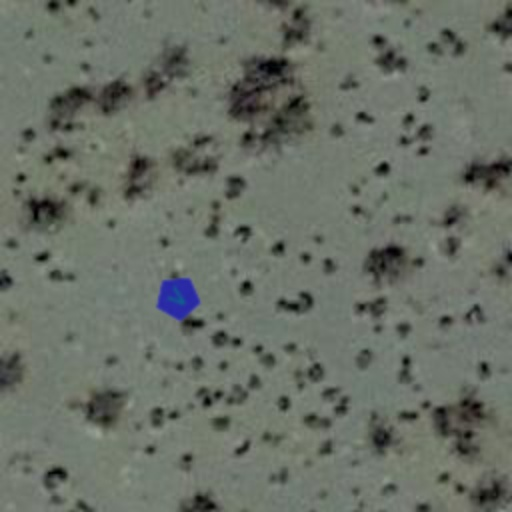pentagon: (144, 264, 212, 332)
